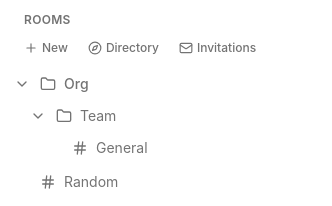
Scenario: SidebarRooms › keeps working when storage is unavailable
This screenshot has width=332, height=206.
Click the button named "Collapse Team" at (38, 116), box [28,106,48,126]
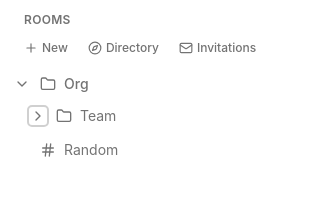
Now the link "General" is gone
Click the button named "Expand Team" at (38, 116), box [28,106,48,126]
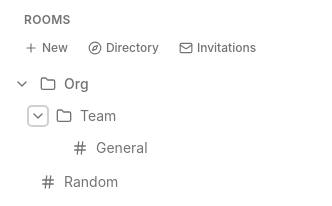
Now the link "General" is shown, box [72,139,148,156]
